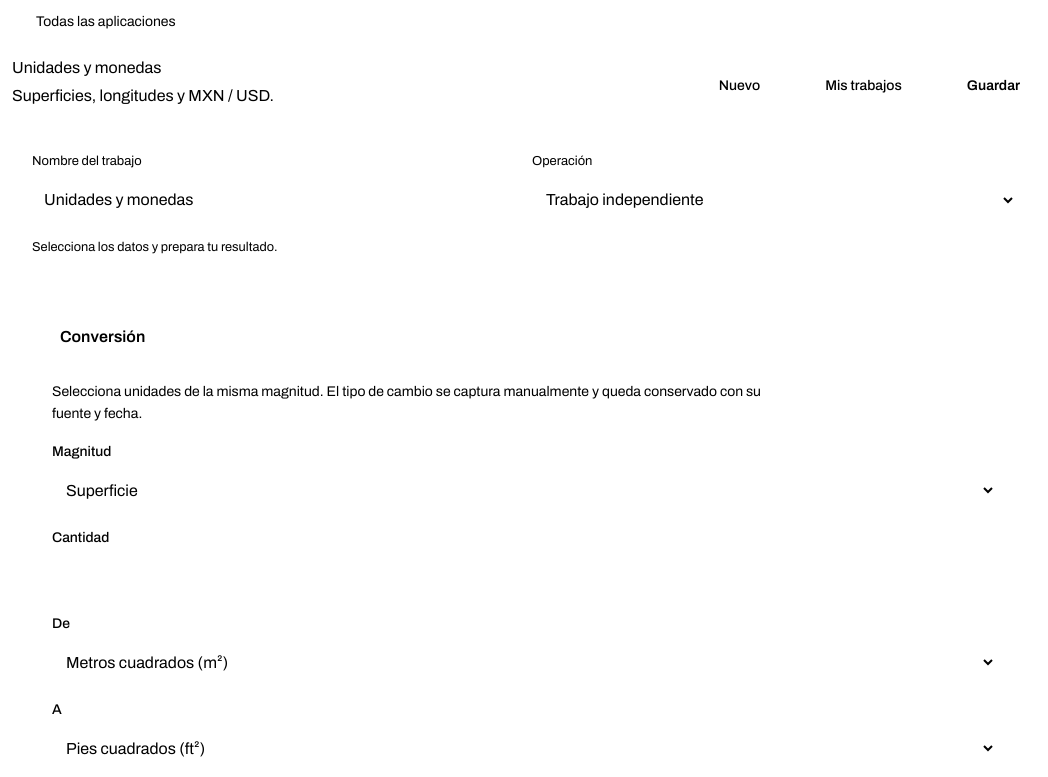
Scenario: mantiene el filtro del historial mientras finaliza una restauración
Click the button "Mis trabajos" at (851, 86), box [784,64,918,108]
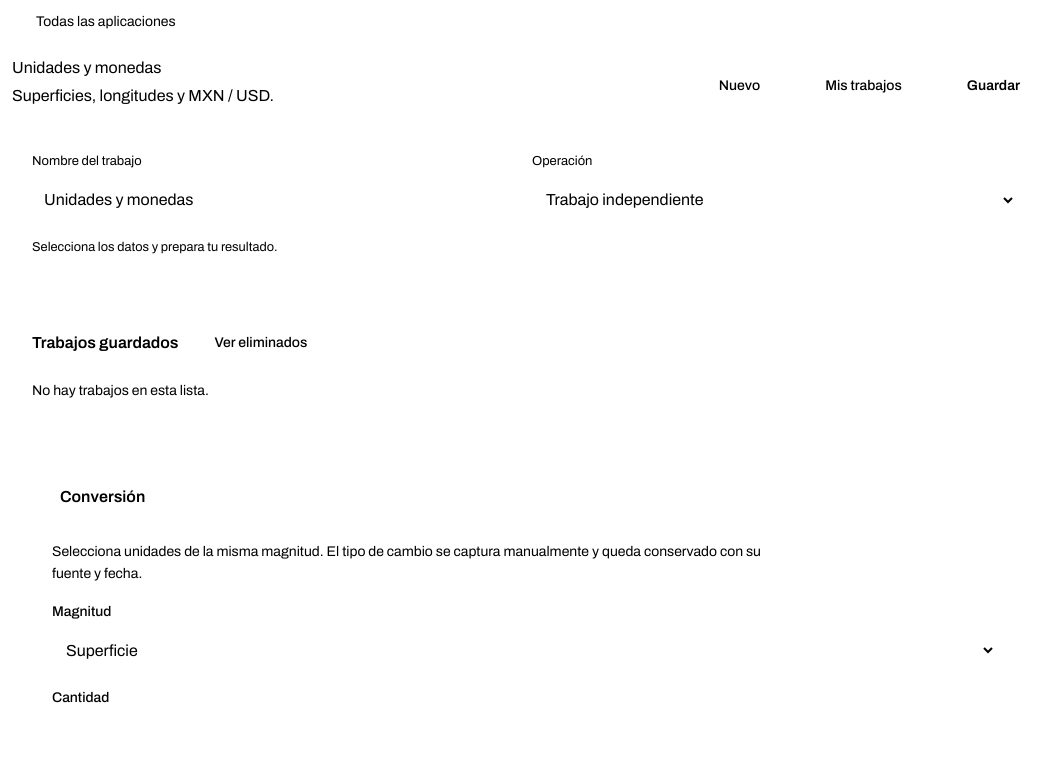
Click the button "Ver eliminados" at (261, 343), box [198,321,323,365]
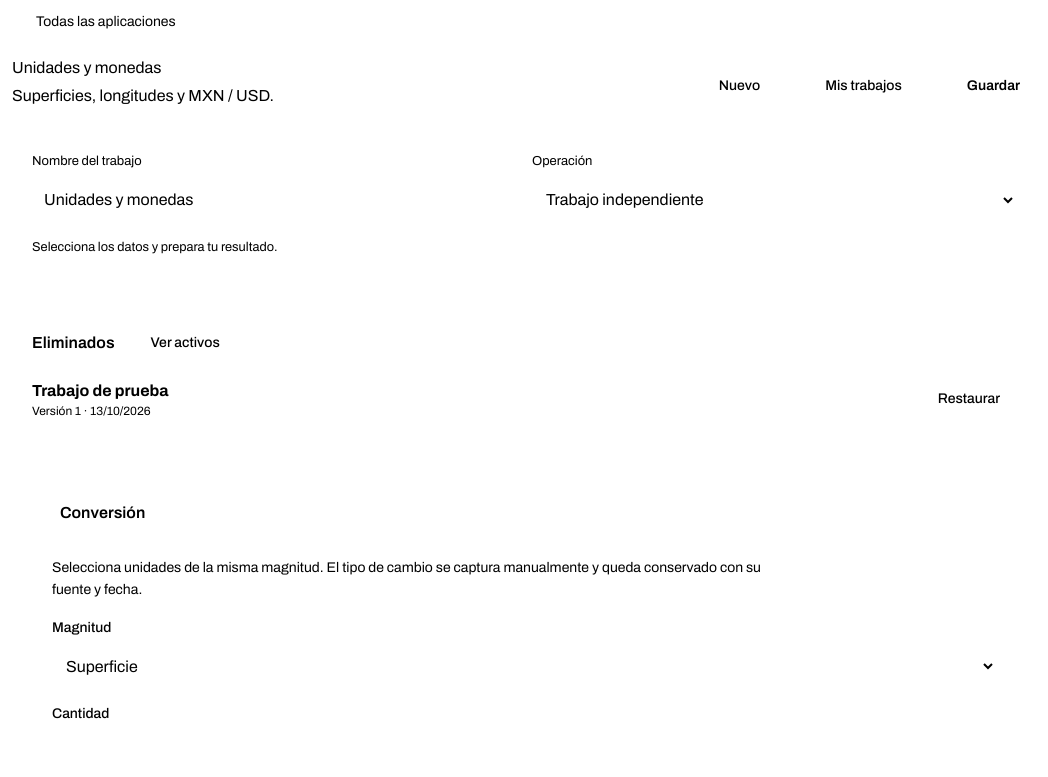
Click the button "Restaurar" at (969, 399), box [922,377,1016,421]
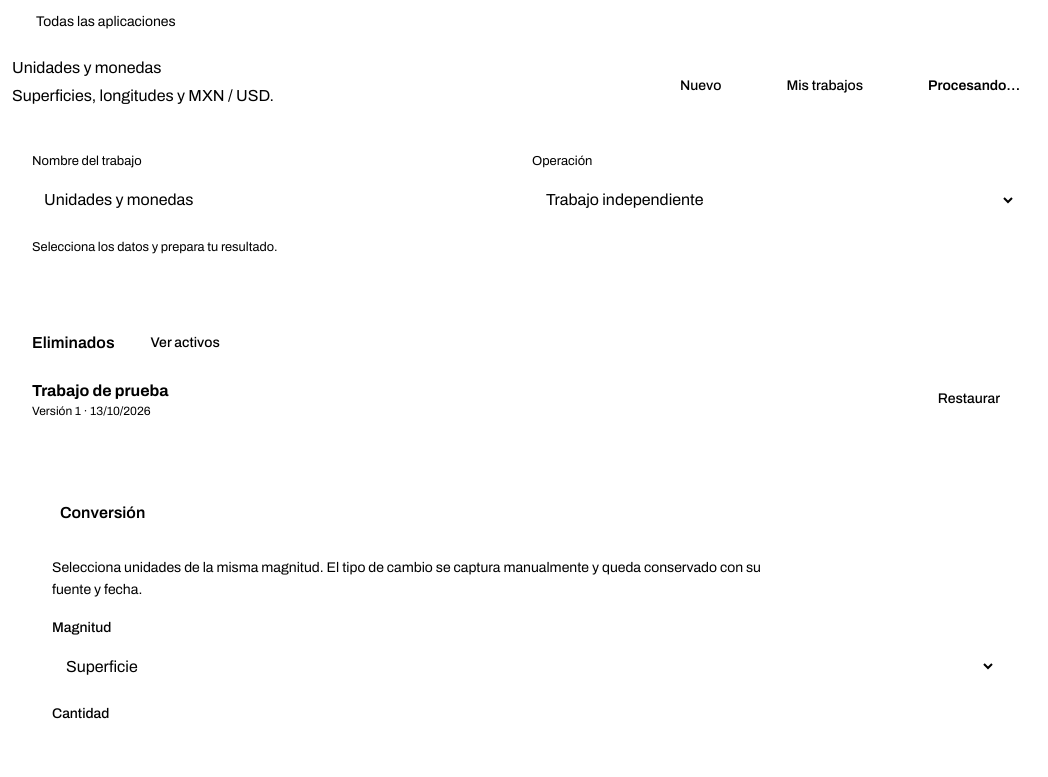
Click the button "Ver activos" at (185, 343), box [135,321,236,365]
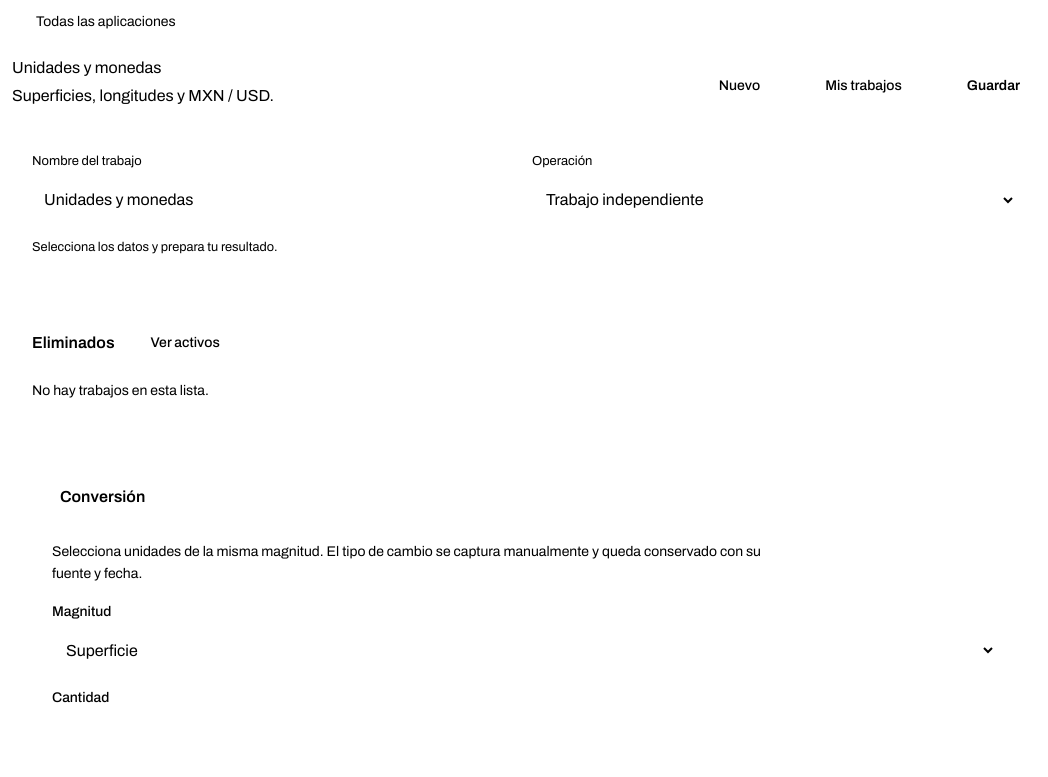
expect the heading "Eliminados" is shown: met, box [32,331,115,355]
expect the button "Restaurar" is gone: met
